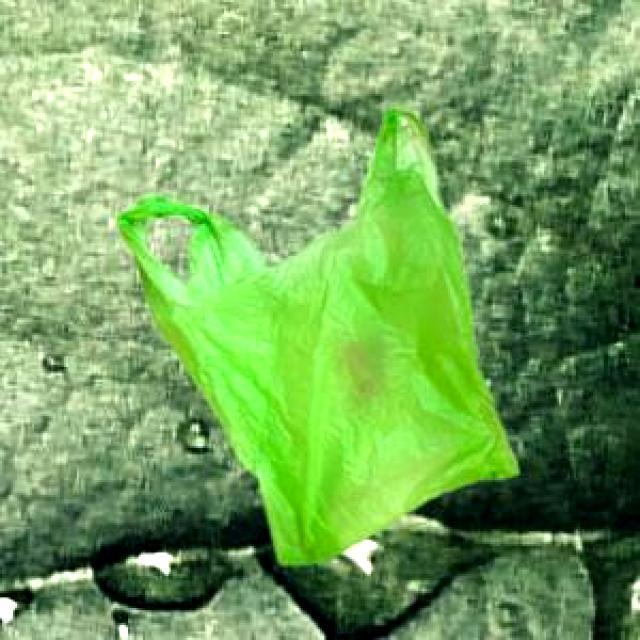Plastic_Bag: (114, 106, 515, 564)
